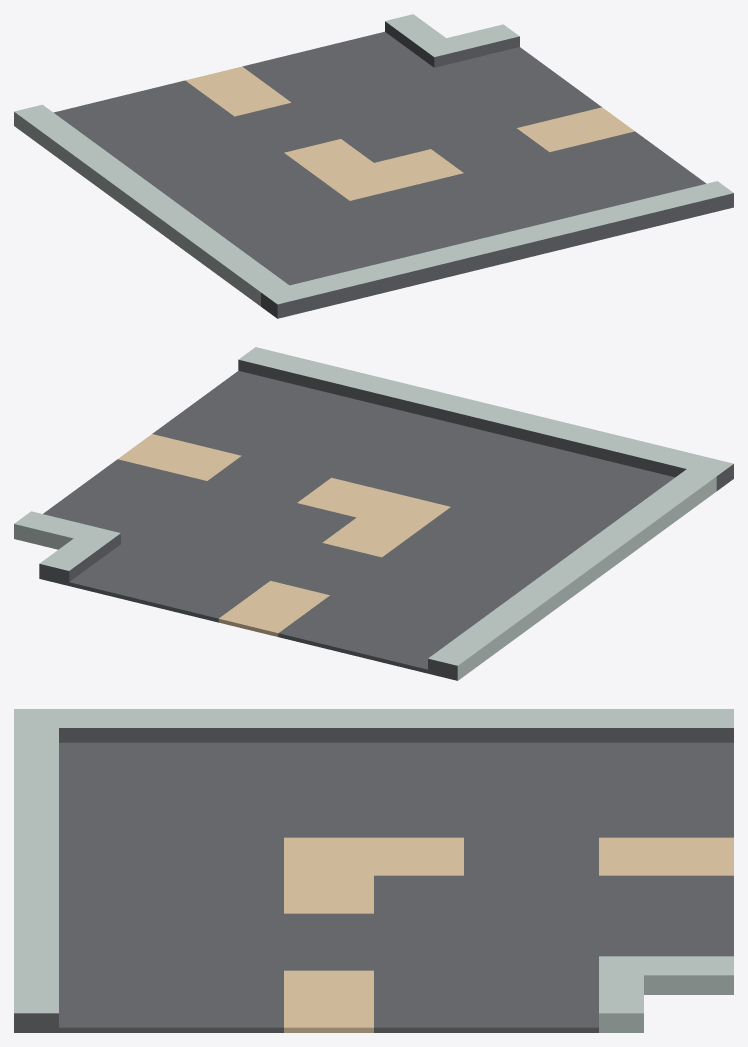
Rendered from Carved_Road.fbx.
3 views of the same model, one above another, from view 1: azimuth 30°, elevation 25°; view 2: azimuth 150°, elevation 25°; view 3: azimuth 270°, elevation 25° (orthographic). The views are drawn at different scales.
Parts seen in each view (by area): view 1: Carved_Road; view 2: Carved_Road; view 3: Carved_Road.
Part boxes in pixels (x1,y1,x2,y2): Carved_Road: [14, 14, 733, 318]; Carved_Road: [14, 347, 733, 680]; Carved_Road: [14, 709, 733, 1032].
Size of the model in its own units: 8 by 0.241 by 8.
